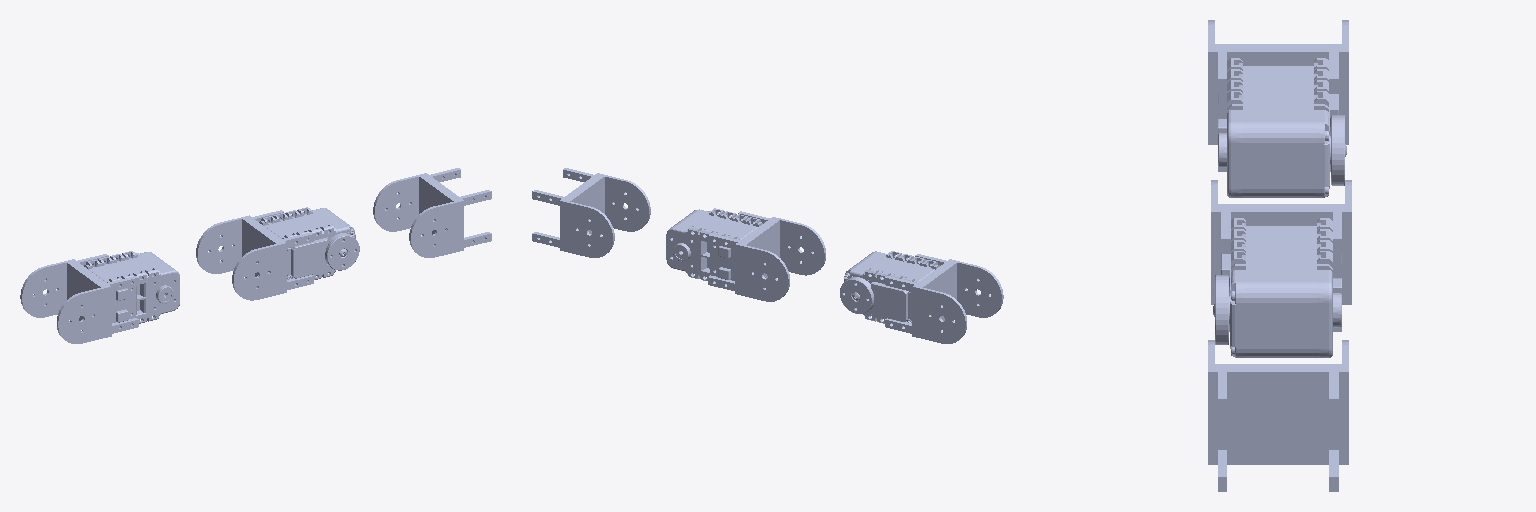
The robot description file, URDF, robot "acps":
<?xml version="1.0" encoding="utf-8"?>
<!-- This URDF was automatically created by SolidWorks to URDF Exporter! Originally created by [author] ([email redacted]) 
     Commit Version: 1.6.0-4-g7f85cfe  Build Version: 1.6.7995.38578
     For more information, please see http://wiki.ros.org/sw_urdf_exporter -->
<robot
  name="acps">
  <link
    name="base_link">
    <inertial>
      <origin
        xyz="0.0050632 -2.8932E-09 0.024787"
        rpy="0 0 0" />
      <mass
        value="0.090196" />
      <inertia
        ixx="1.7793E-05"
        ixy="-9.8445E-12"
        ixz="6.6333E-10"
        iyy="3.1931E-05"
        iyz="-6.3531E-13"
        izz="4.6413E-05" />
    </inertial>
    <visual>
      <origin
        xyz="0 0 0"
        rpy="0 0 0" />
      <geometry>
        <mesh
          filename="package://acps/meshes/base_link.STL" />
      </geometry>
      <material
        name="">
        <color
          rgba="0.79216 0.81961 0.93333 1" />
      </material>
    </visual>
    <collision>
      <origin
        xyz="0 0 0"
        rpy="0 0 0" />
      <geometry>
        <mesh
          filename="package://acps/meshes/base_link.STL" />
      </geometry>
    </collision>
  </link>
  <link
    name="link1">
    <inertial>
      <origin
        xyz="-4.8378E-09 -0.00096454 0.02552"
        rpy="0 0 0" />
      <mass
        value="0.05394" />
      <inertia
        ixx="1.235E-05"
        ixy="6.3531E-13"
        ixz="9.8445E-12"
        iyy="1.1336E-05"
        iyz="-3.2723E-08"
        izz="8.0276E-06" />
    </inertial>
    <visual>
      <origin
        xyz="0 0 0"
        rpy="0 0 0" />
      <geometry>
        <mesh
          filename="package://acps/meshes/link1.STL" />
      </geometry>
      <material
        name="">
        <color
          rgba="0.79216 0.81961 0.93333 1" />
      </material>
    </visual>
    <collision>
      <origin
        xyz="0 0 0"
        rpy="0 0 0" />
      <geometry>
        <mesh
          filename="package://acps/meshes/link1.STL" />
      </geometry>
    </collision>
  </link>
  <joint
    name="joint1"
    type="continuous">
    <origin
      xyz="0 0 0.0548"
      rpy="0 0 0" />
    <parent
      link="base_link" />
    <child
      link="link1" />
    <axis
      xyz="0 0 1" />
  </joint>
  <link
    name="link2">
    <inertial>
      <origin
        xyz="0.076862 3.2486E-09 0.0019947"
        rpy="0 0 0" />
      <mass
        value="0.080328" />
      <inertia
        ixx="7.0482E-06"
        ixy="-9.8445E-12"
        ixz="3.7071E-07"
        iyy="4.3452E-05"
        iyz="6.3531E-13"
        izz="4.7253E-05" />
    </inertial>
    <visual>
      <origin
        xyz="0 0 0"
        rpy="0 0 0" />
      <geometry>
        <mesh
          filename="package://acps/meshes/link2.STL" />
      </geometry>
      <material
        name="">
        <color
          rgba="0.79216 0.81961 0.93333 1" />
      </material>
    </visual>
    <collision>
      <origin
        xyz="0 0 0"
        rpy="0 0 0" />
      <geometry>
        <mesh
          filename="package://acps/meshes/link2.STL" />
      </geometry>
    </collision>
  </link>
  <joint
    name="joint2"
    type="continuous">
    <origin
      xyz="0 0 0.04355"
      rpy="1.5708 0 0" />
    <parent
      link="link1" />
    <child
      link="link2" />
    <axis
      xyz="0 0 -1" />
  </joint>
  <link
    name="link3">
    <inertial>
      <origin
        xyz="0.076862 3.2486E-09 0.0020359"
        rpy="0 0 0" />
      <mass
        value="0.080328" />
      <inertia
        ixx="7.0482E-06"
        ixy="-9.8445E-12"
        ixz="3.7071E-07"
        iyy="4.3452E-05"
        iyz="6.3531E-13"
        izz="4.7253E-05" />
    </inertial>
    <visual>
      <origin
        xyz="0 0 0"
        rpy="0 0 0" />
      <geometry>
        <mesh
          filename="package://acps/meshes/link3.STL" />
      </geometry>
      <material
        name="">
        <color
          rgba="0.79216 0.81961 0.93333 1" />
      </material>
    </visual>
    <collision>
      <origin
        xyz="0 0 0"
        rpy="0 0 0" />
      <geometry>
        <mesh
          filename="package://acps/meshes/link3.STL" />
      </geometry>
    </collision>
  </link>
  <joint
    name="joint3"
    type="continuous">
    <origin
      xyz="0.11855 0 0"
      rpy="0 0 0" />
    <parent
      link="link2" />
    <child
      link="link3" />
    <axis
      xyz="0 0 -1" />
  </joint>
  <link
    name="link4">
    <inertial>
      <origin
        xyz="0.012363 -6.9389E-17 0.001"
        rpy="0 0 0" />
      <mass
        value="0.011748" />
      <inertia
        ixx="3.7944E-06"
        ixy="2.1774E-20"
        ixz="-1.5694E-21"
        iyy="3.709E-06"
        iyz="-1.7401E-20"
        izz="1.8647E-06" />
    </inertial>
    <visual>
      <origin
        xyz="0 0 0"
        rpy="0 0 0" />
      <geometry>
        <mesh
          filename="package://acps/meshes/link4.STL" />
      </geometry>
      <material
        name="">
        <color
          rgba="0.79216 0.81961 0.93333 1" />
      </material>
    </visual>
    <collision>
      <origin
        xyz="0 0 0"
        rpy="0 0 0" />
      <geometry>
        <mesh
          filename="package://acps/meshes/link4.STL" />
      </geometry>
    </collision>
  </link>
  <joint
    name="joint4"
    type="continuous">
    <origin
      xyz="0.11855 0 0"
      rpy="0 0 0" />
    <parent
      link="link3" />
    <child
      link="link4" />
    <axis
      xyz="0 0 -1" />
  </joint>
</robot>

--- What the picture shows (computed from the rendered views, not written in the file) ---
3 views of the same robot in one strip: view 1: azimuth 30°, elevation 25°; view 2: azimuth 150°, elevation 25°; view 3: azimuth 270°, elevation 25° (orthographic).
Model acps with 5 links and 4 joints (4 continuous), rooted at base_link, posed all joints at 0.
Links seen in each view (by area): view 1: link3, link2, link4; view 2: link2, link3, link4; view 3: link2, link3, link4.
Boxes of the visible links, left/top/right/bottom form: link3: left=196, top=207, right=359, bottom=300; link2: left=20, top=251, right=179, bottom=343; link4: left=373, top=168, right=491, bottom=257; link2: left=840, top=251, right=1003, bottom=343; link3: left=666, top=208, right=825, bottom=301; link4: left=532, top=168, right=650, bottom=257; link2: left=1208, top=20, right=1348, bottom=197; link3: left=1211, top=180, right=1351, bottom=357; link4: left=1208, top=340, right=1348, bottom=491.
Bounding box of the posed robot: 0.293 × 0.045 × 0.032 m (x, y, z).
Meshes: 5 distinct files referenced, 3 mesh visuals loaded (3 binary STL); not drawn: 2 (reference not matched to a file when rendering).